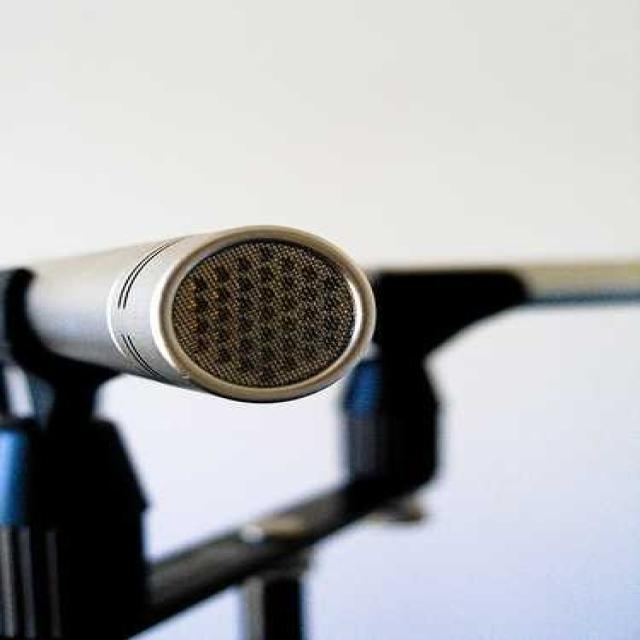microphone: (2, 220, 375, 407)
